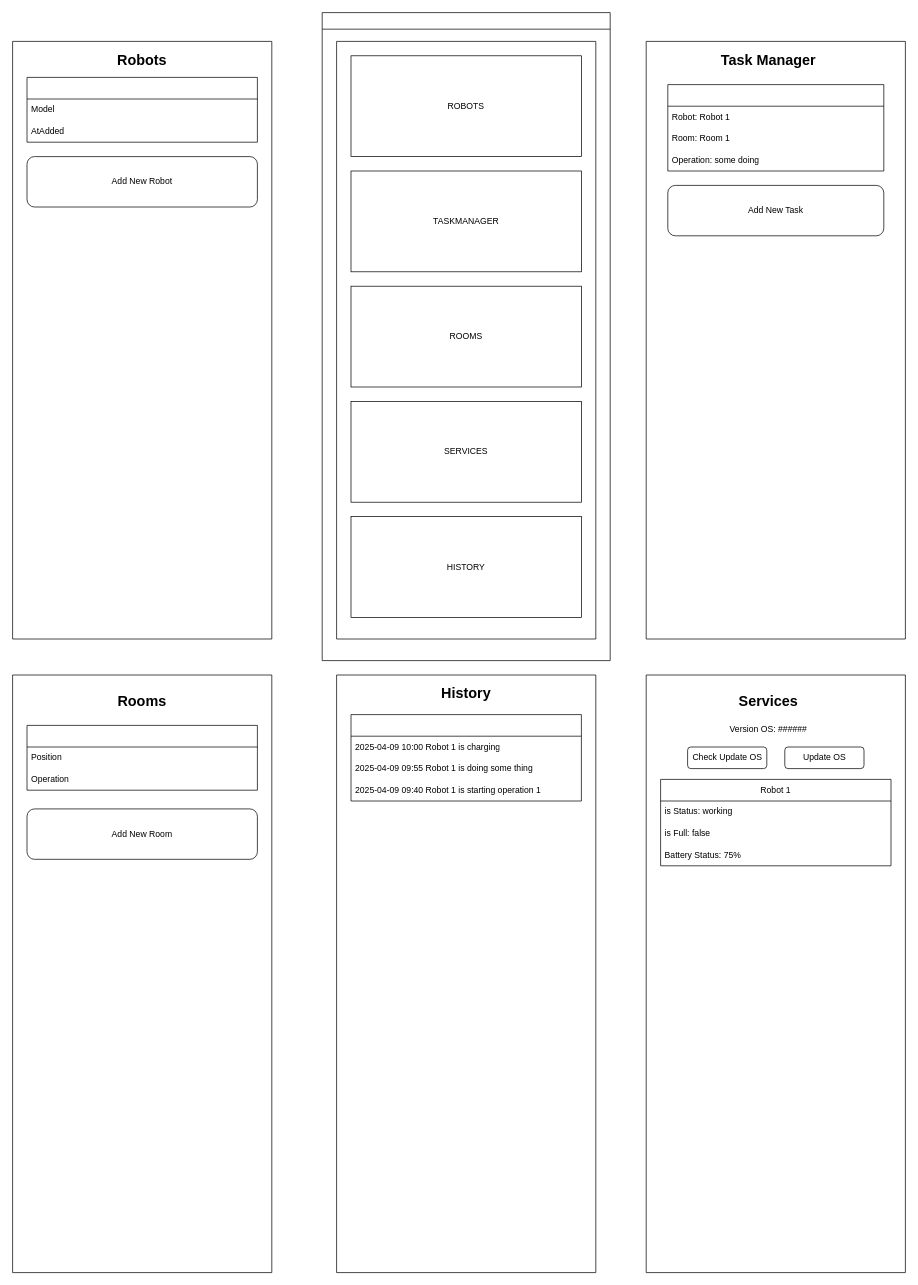
Some shapes in this 918 by 1285 pixel diagram are drawn without their labels. The box of each missing label's shape, as (x1, y1, x2, y2) in pixels:
Robot: (26, 77, 257, 142)
Room 1: (26, 725, 257, 790)
Task 1: (667, 84, 884, 171)
Today: (350, 714, 581, 801)
WebSPA: (321, 12, 610, 661)
